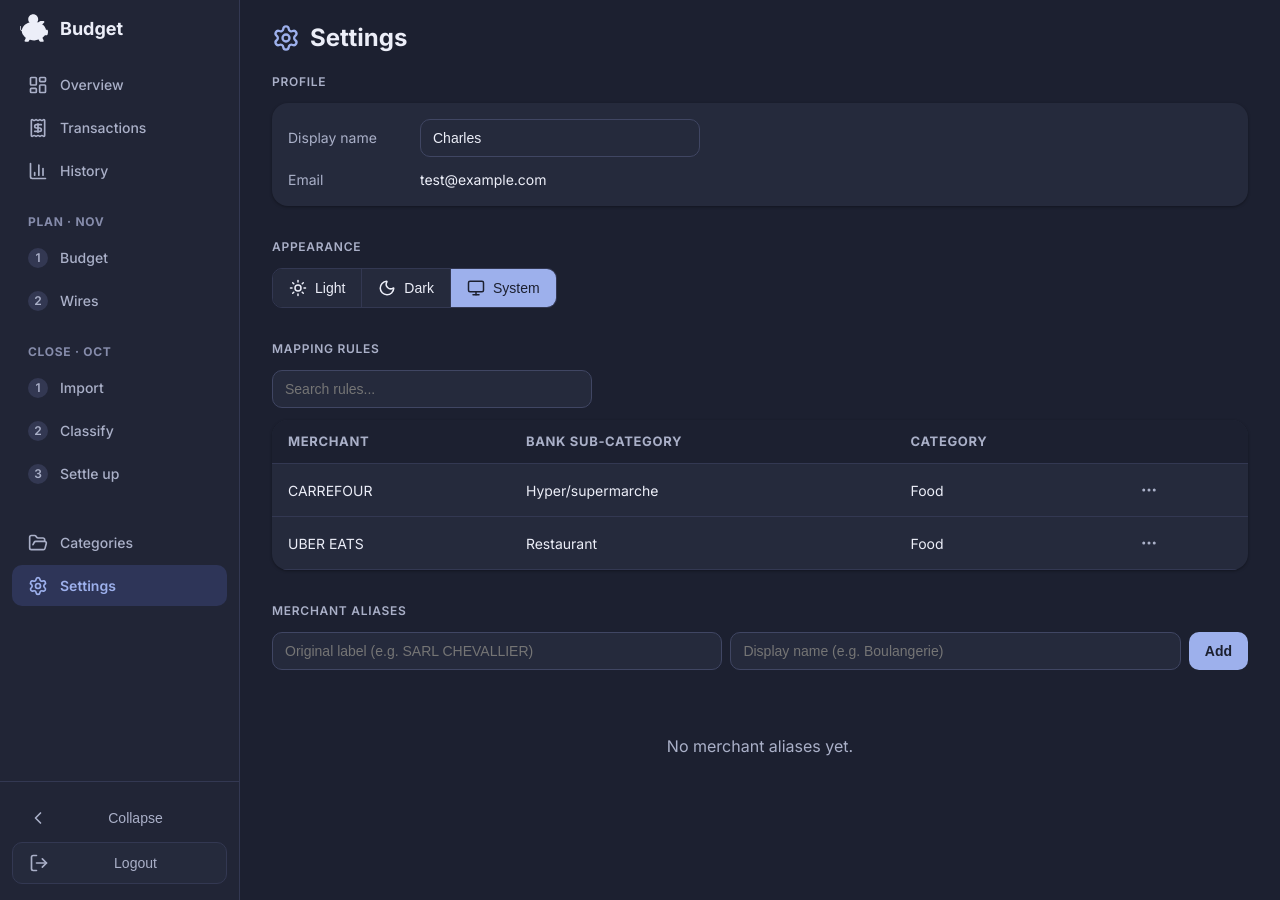
it: Settings Page › should show the profile and save a new display name on blur
The image size is (1280, 900).
Expected: the text "test@example.com" is shown, [420,171,546,188]
Replace the text in the field labelled "Display name" with "Charly" at (560, 138), box [420,119,700,157]
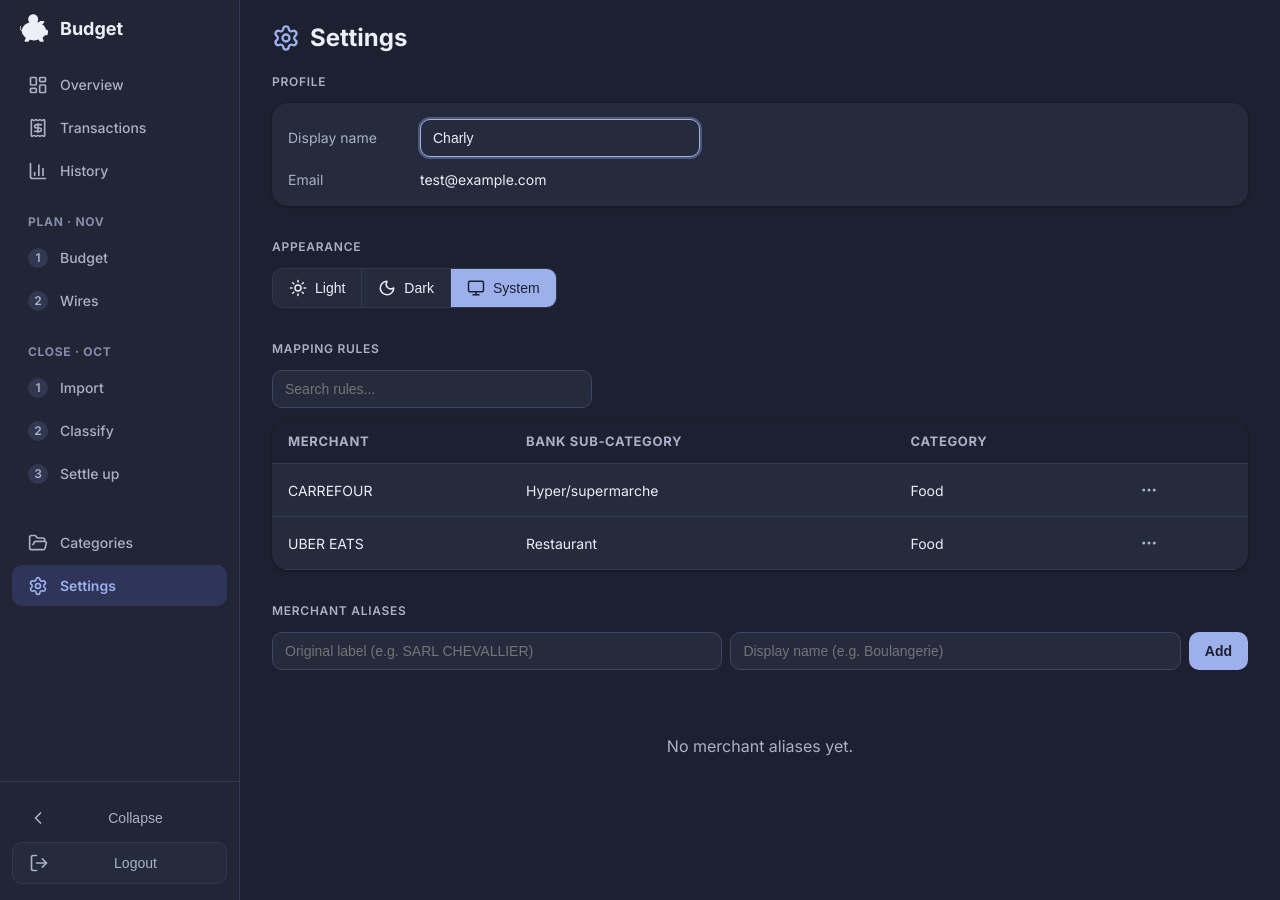
Press Tab
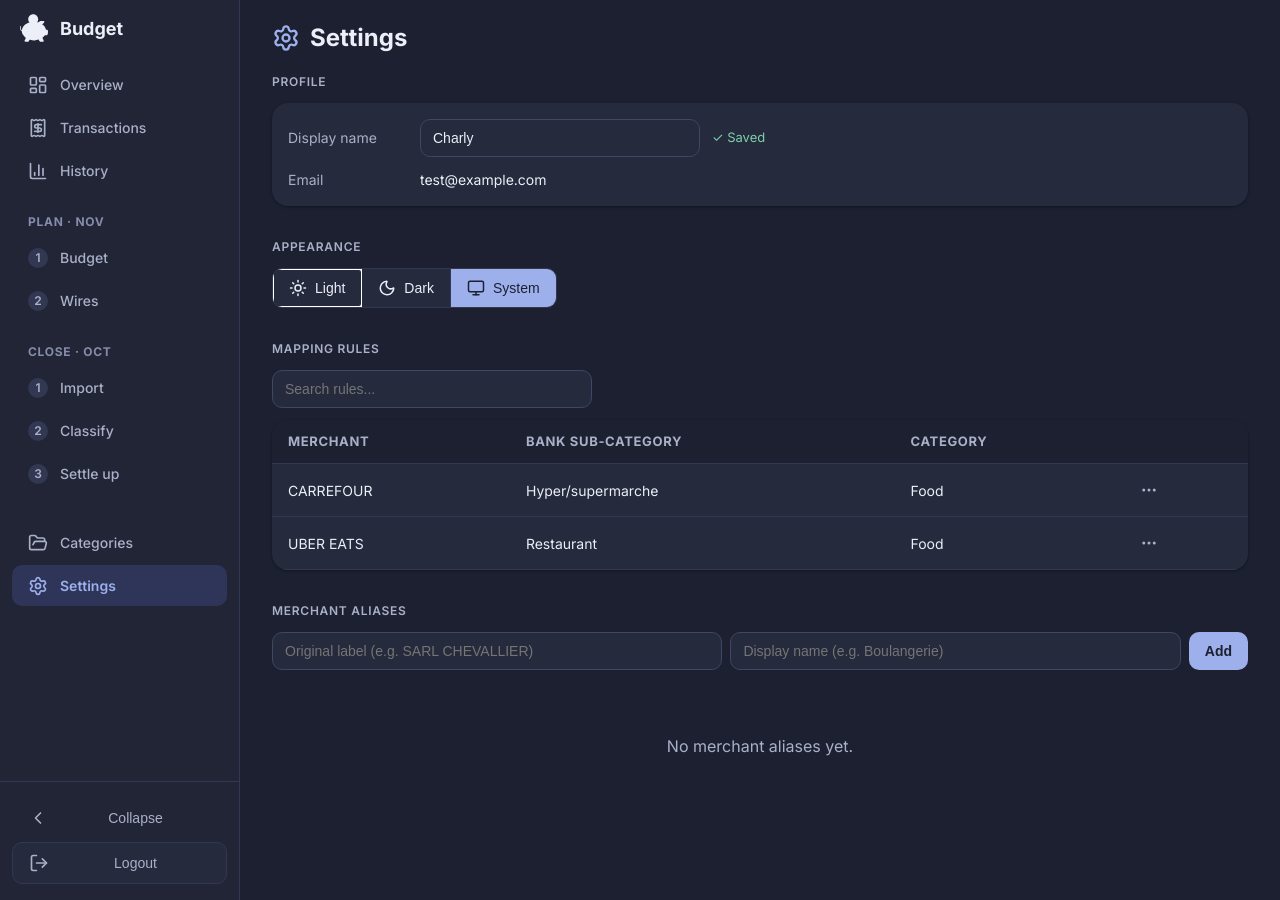
Expected: the text "✓ Saved" is shown, [712,128,765,148]
